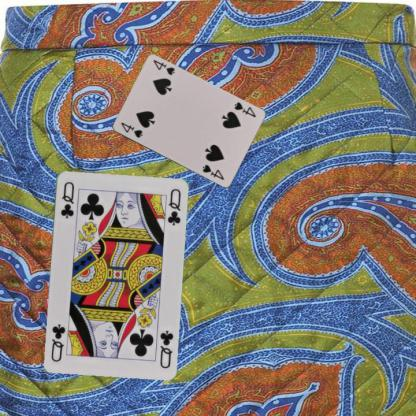4s: (118, 120, 143, 139), (231, 100, 257, 118)
Qc: (157, 328, 175, 369), (58, 179, 75, 219)
